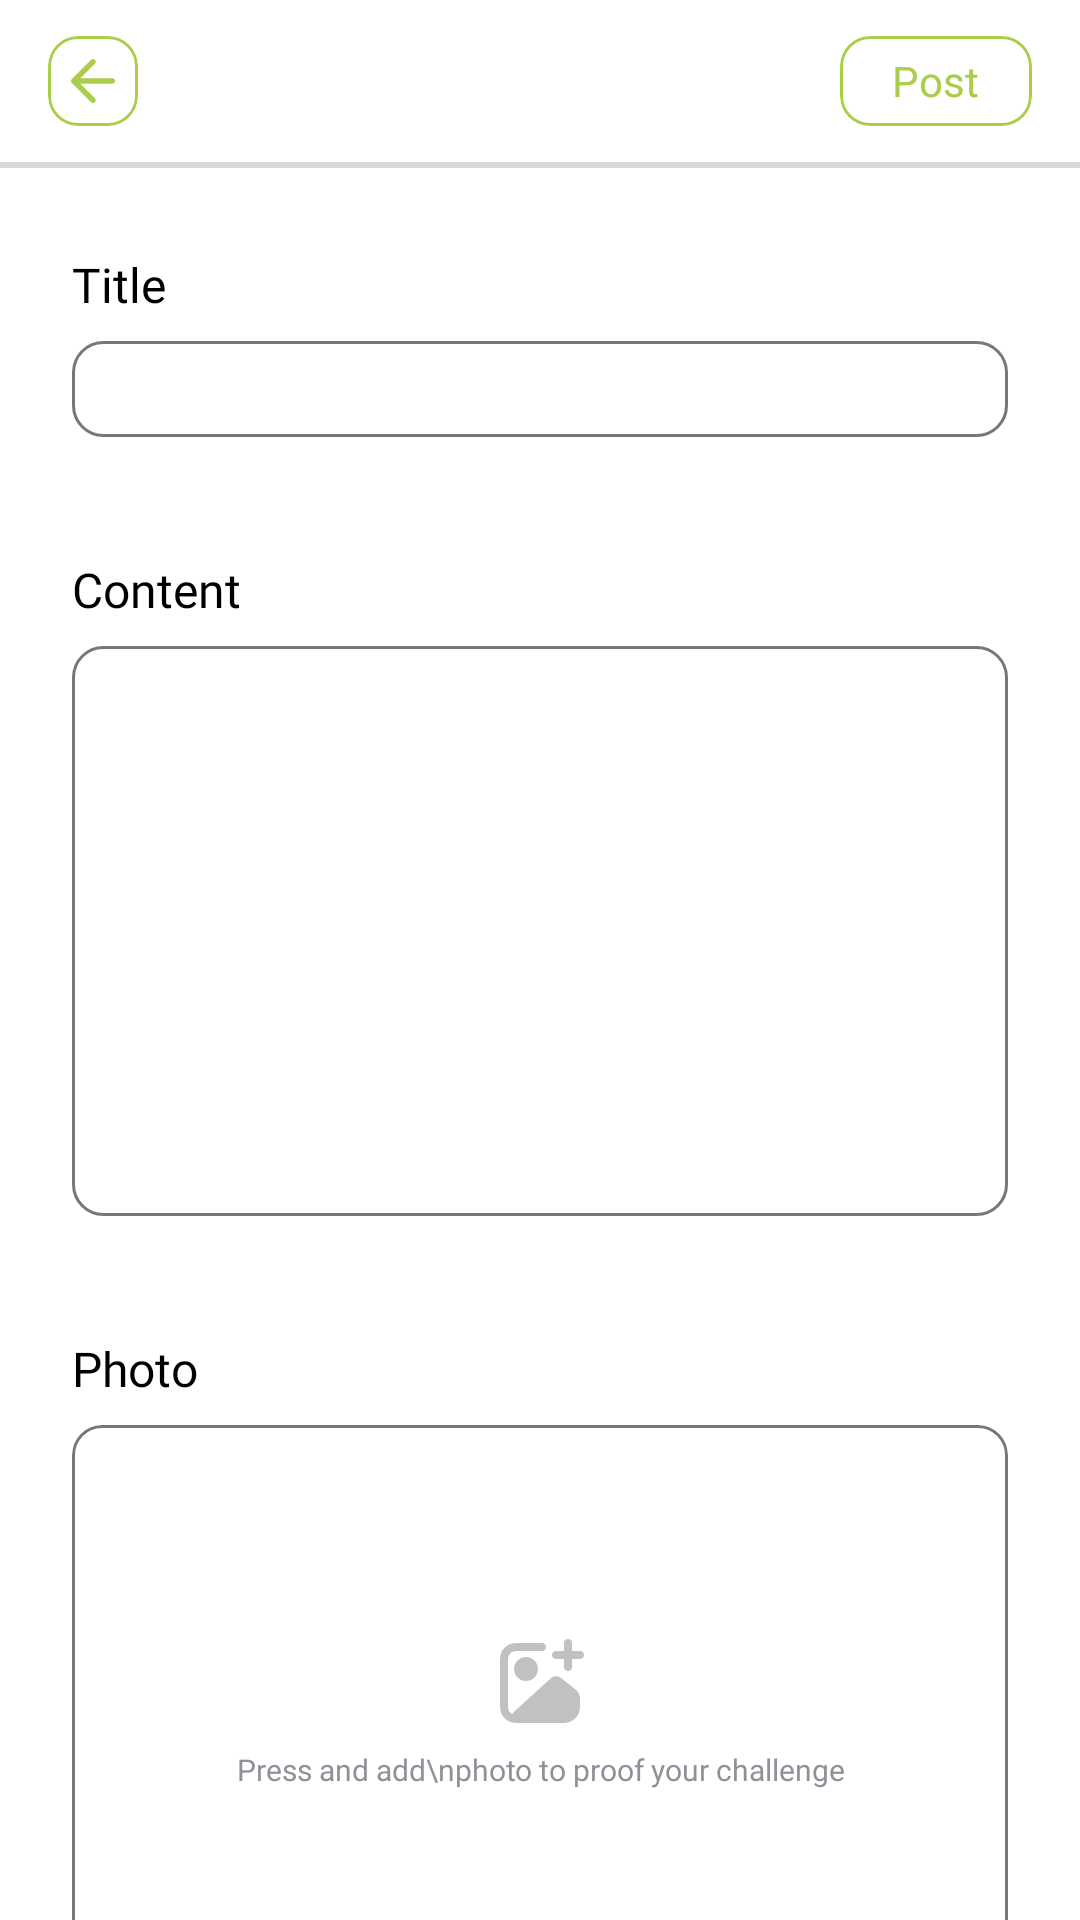

Where icons sit on this 1080 × 1920 app screen, as bbox(x1, y1, x2, y2):
left arrow: bbox(71, 59, 115, 103)
